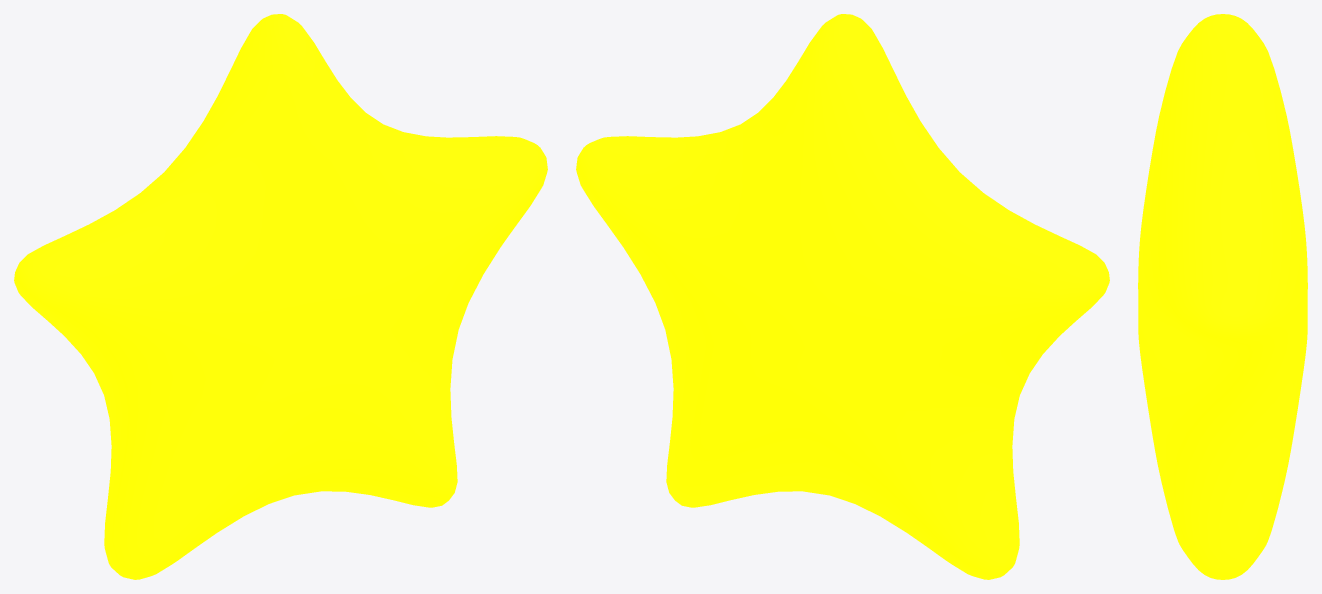
The model's file is star.fbx.
3 views of the same model, side by side, from view 1: azimuth 30°, elevation 25°; view 2: azimuth 150°, elevation 25°; view 3: azimuth 270°, elevation 25° (orthographic). The views are drawn at different scales.
Visible parts, largest first — view 1: Star; view 2: Star; view 3: Star.
Boxes of the visible parts, x1,y1,x2,y2 form: Star: (14, 14, 547, 579); Star: (576, 14, 1109, 579); Star: (1138, 14, 1307, 579).
Size of the model in its own units: 254 by 242 by 75.63.
